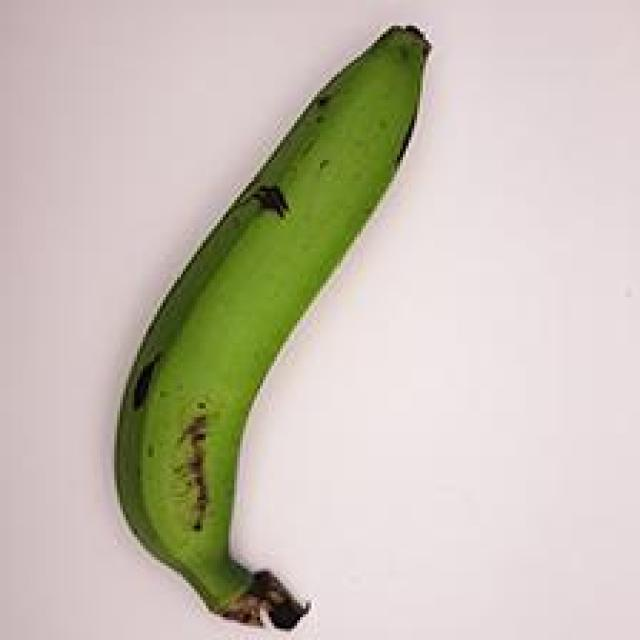Raw: (63, 3, 446, 640)
